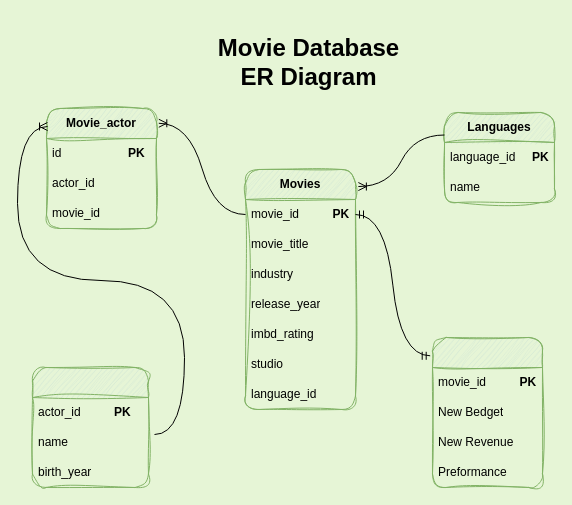
This 572x505 diagram has some shape labels left out. The shapes that lost their labels are listed below. From the top down, each one's box as (x1, y1, x2, y2) in pixels, then its label:
(32, 366, 148, 488): Actors
(432, 336, 542, 488): Financials
